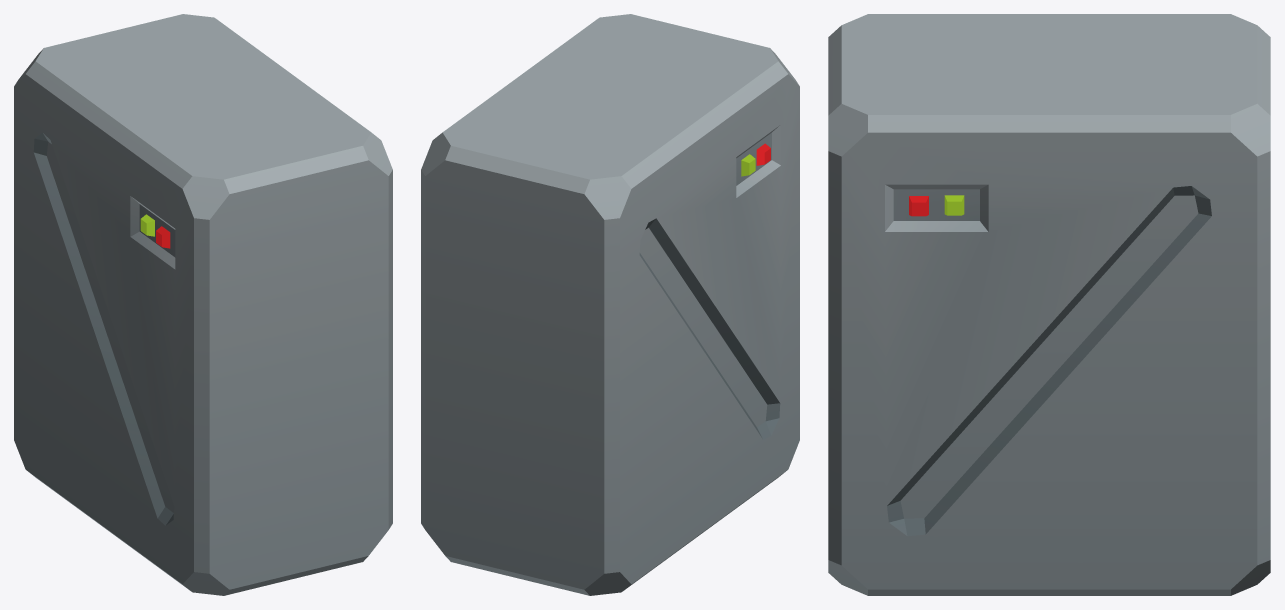
File: Delivery_drone_006_crate_001.glb
3 views of the same model, side by side, from view 1: azimuth 30°, elevation 25°; view 2: azimuth 150°, elevation 25°; view 3: azimuth 270°, elevation 25° (orthographic). The views are drawn at different scales.
Parts seen in each view (by area): view 1: Delivery_drone_006_crate_001; view 2: Delivery_drone_006_crate_001; view 3: Delivery_drone_006_crate_001.
Part boxes in pixels (left/top/right/bottom): Delivery_drone_006_crate_001: left=14, top=14, right=392, bottom=595; Delivery_drone_006_crate_001: left=421, top=14, right=799, bottom=595; Delivery_drone_006_crate_001: left=828, top=14, right=1270, bottom=595.
Bounding box in the file's own units: 0.3044 × 0.6 × 0.5.
2 materials, 2 textured.
